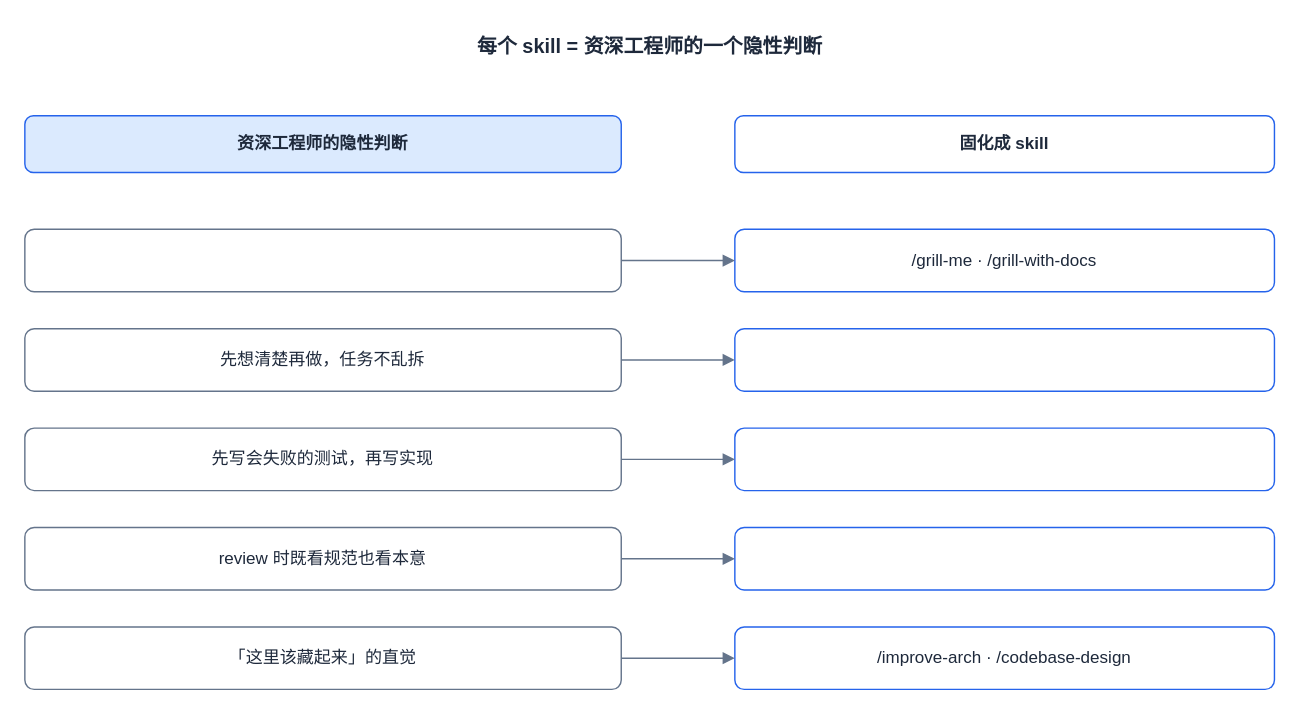
Image size: 1299x714. Some labels were removed from this diagram. Here are the shapes that lost their labels. From the top down, the centre of each, then its label:
(322,260): 开工前盘问 PM，把术语钉死
(1003,359): /wayfinder · /to-spec · /to-tickets
(1003,459): /tdd · /diagnosing-bugs
(1003,558): /code-review（双轴并行）
